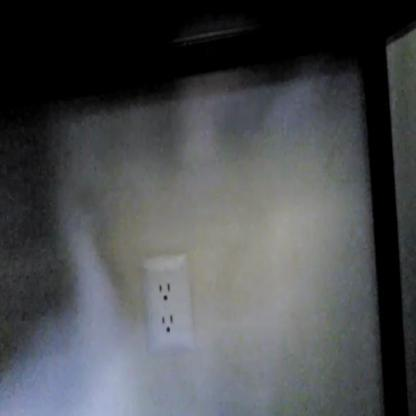OUTLET: (139, 252, 194, 357)
